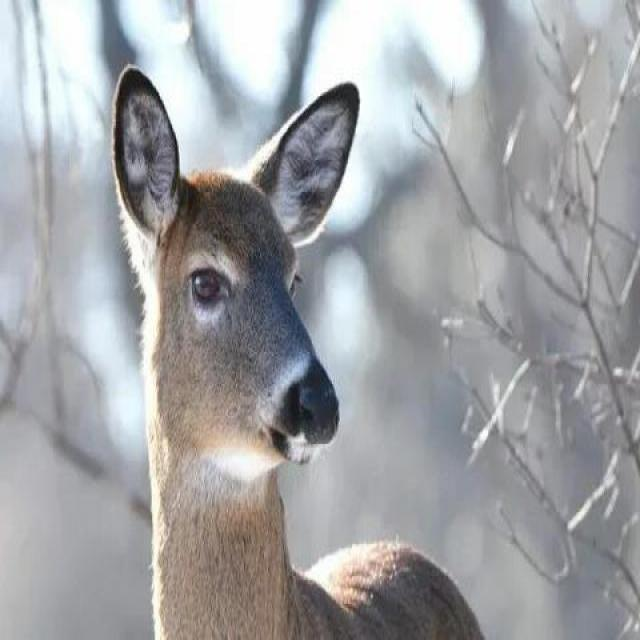deer: (147, 108, 460, 640)
